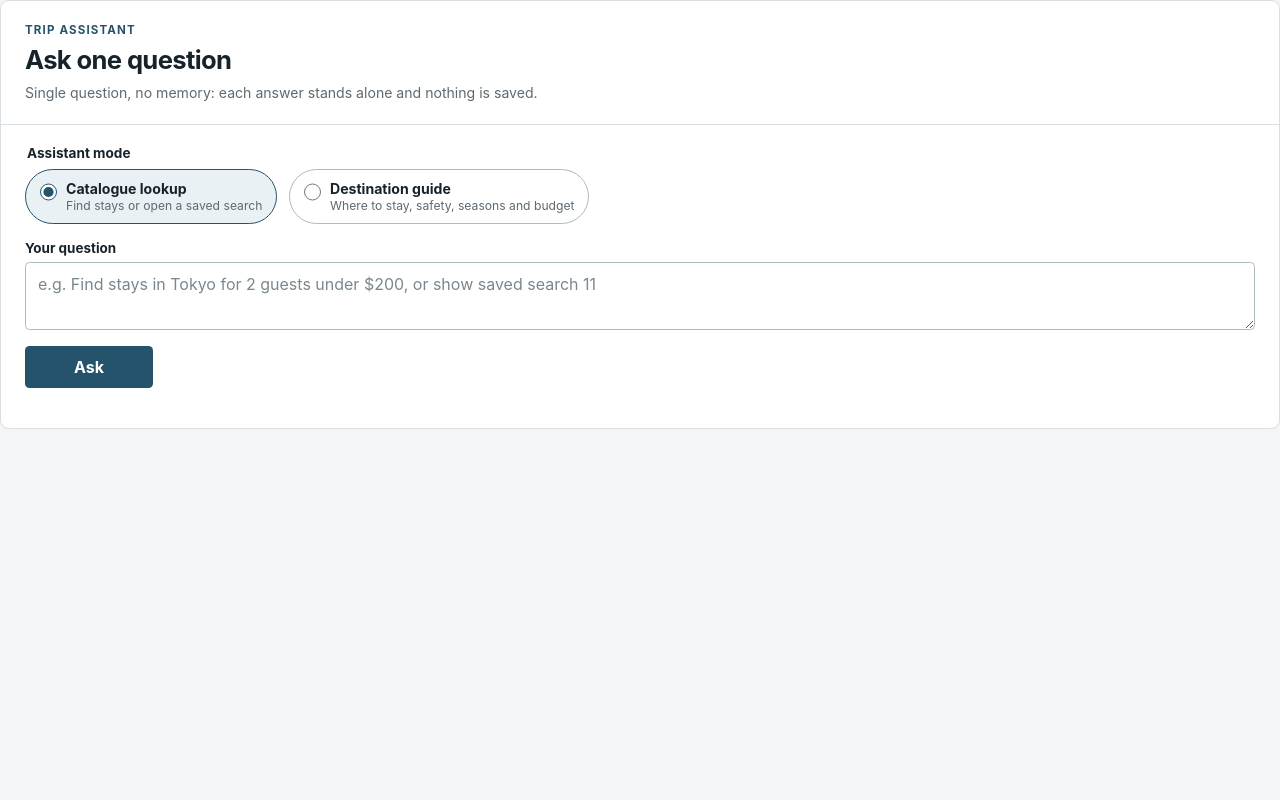
Scenario: AssistantPanel › sends a guide question and renders the answer, markers as text, citations and badge
Click the radio button labelled "Destination guide Where to stay, safety, seasons and budget".
click(312, 192)  # box [304, 183, 321, 201]
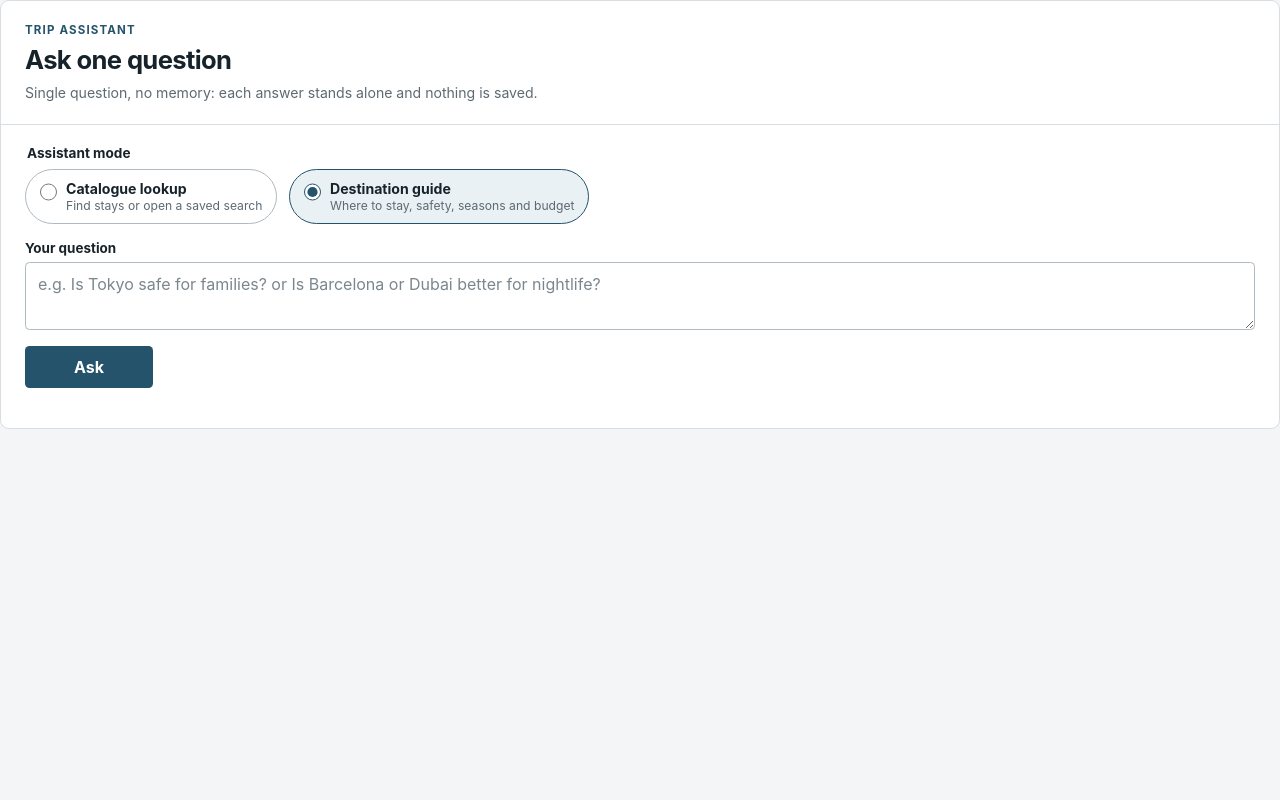
Replace the text in the text box with id "assistant-question" with "Is Tokyo safe? Barcelona nightlife?" at [640, 296], box [25, 262, 1255, 330]
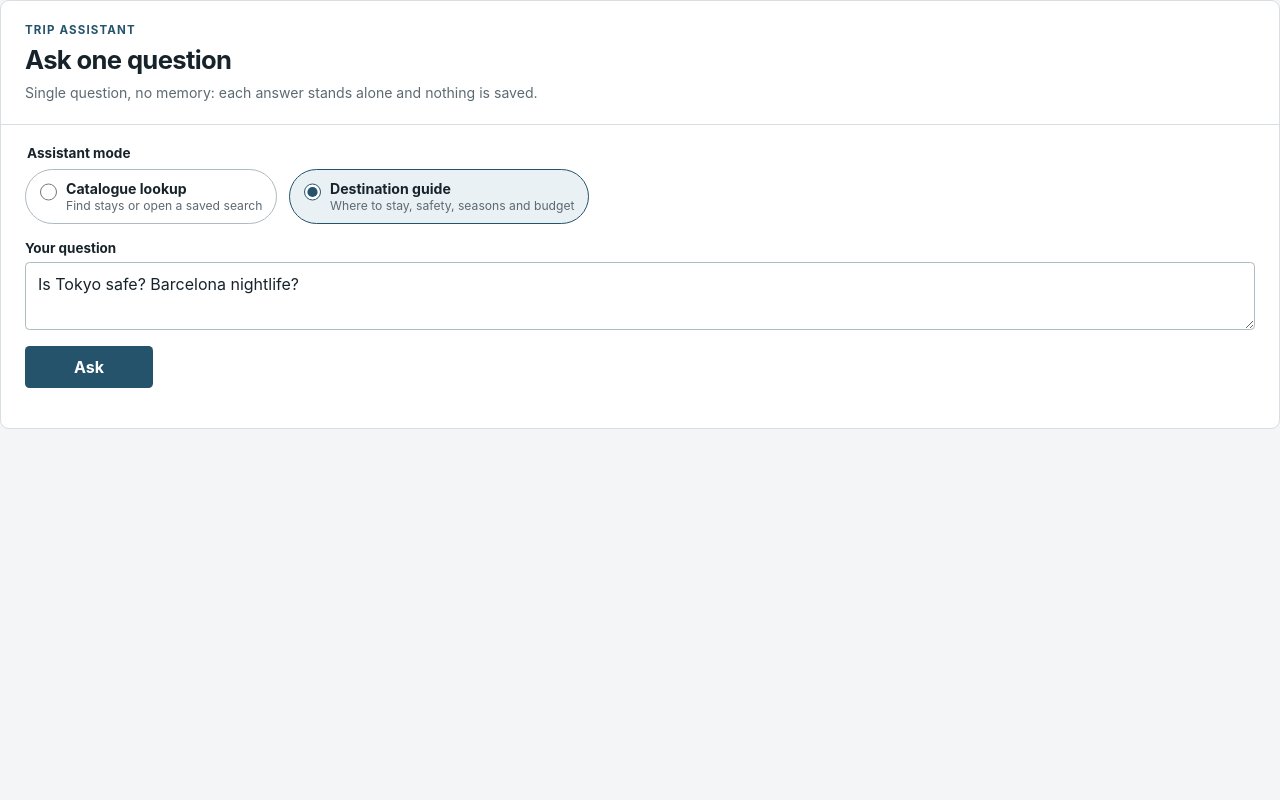
Click the button with class "assistant-submit".
click(89, 367)  # box [25, 346, 153, 388]
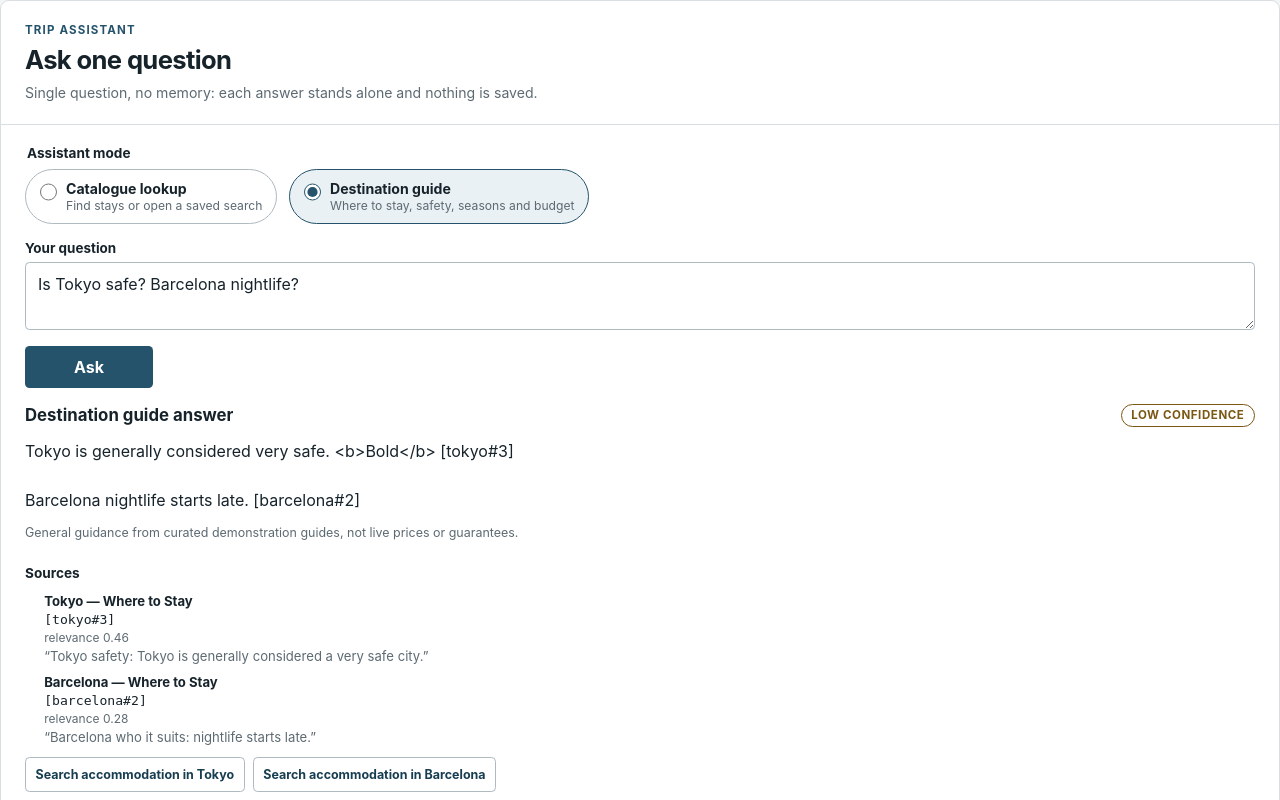
Check: the text with class "guide-answer" shows "[tokyo#3]", box [25, 441, 514, 510]
Check: the text with class "confidence-badge" reads "low confidence", box [1131, 408, 1244, 422]
Check: the number of list items is 2, box [44, 593, 423, 664]; [44, 674, 310, 745]
